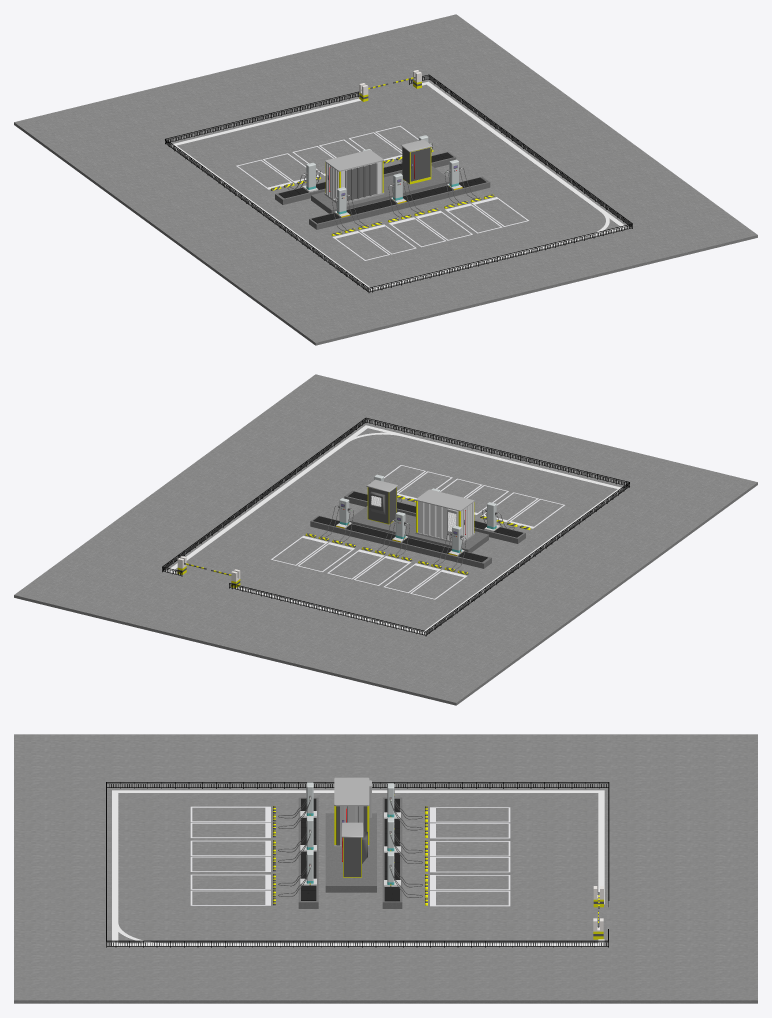
Rendered from public_charging_stations_-.glb.
The picture shows the model from 3 angles, top to bottom: view 1: azimuth 30°, elevation 25°; view 2: azimuth 150°, elevation 25°; view 3: azimuth 270°, elevation 25°; orthographic projection. The views are drawn at different scales.
Parts seen in each view (by area): view 1: Material2 (×10), Material3 (×2); view 2: Material2 (×9), Material3 (×2); view 3: Material2 (×11), Material3.
Boxes of the visible parts, x1=… form: Material2 (×10): x1=14, y1=14, x2=757, y2=345; Material3 (×2): x1=303, y1=139, x2=461, y2=203; Material2 (×9): x1=14, y1=374, x2=757, y2=705; Material3 (×2): x1=336, y1=479, x2=498, y2=543; Material2 (×11): x1=14, y1=734, x2=757, y2=1003; Material3: x1=334, y1=777, x2=371, y2=847.
Size of the model in its own units: 1414 by 129 by 1670.
Materials: 26 (4 with a texture image).
